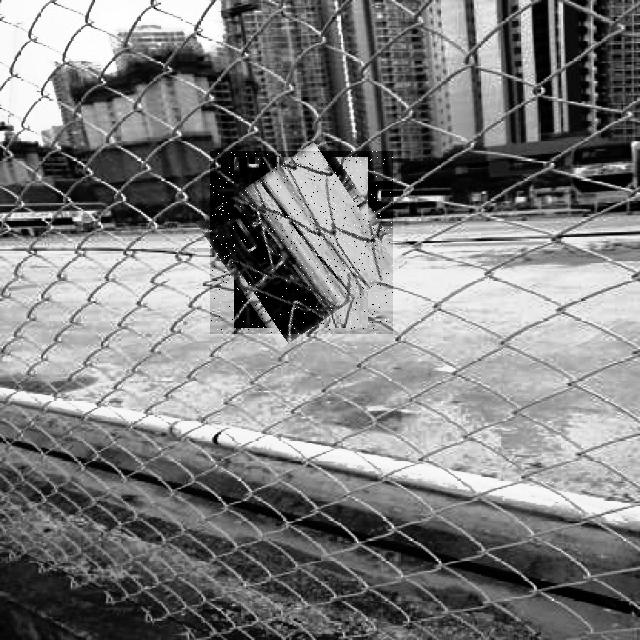anomaly-fence: (210, 151, 393, 334)
